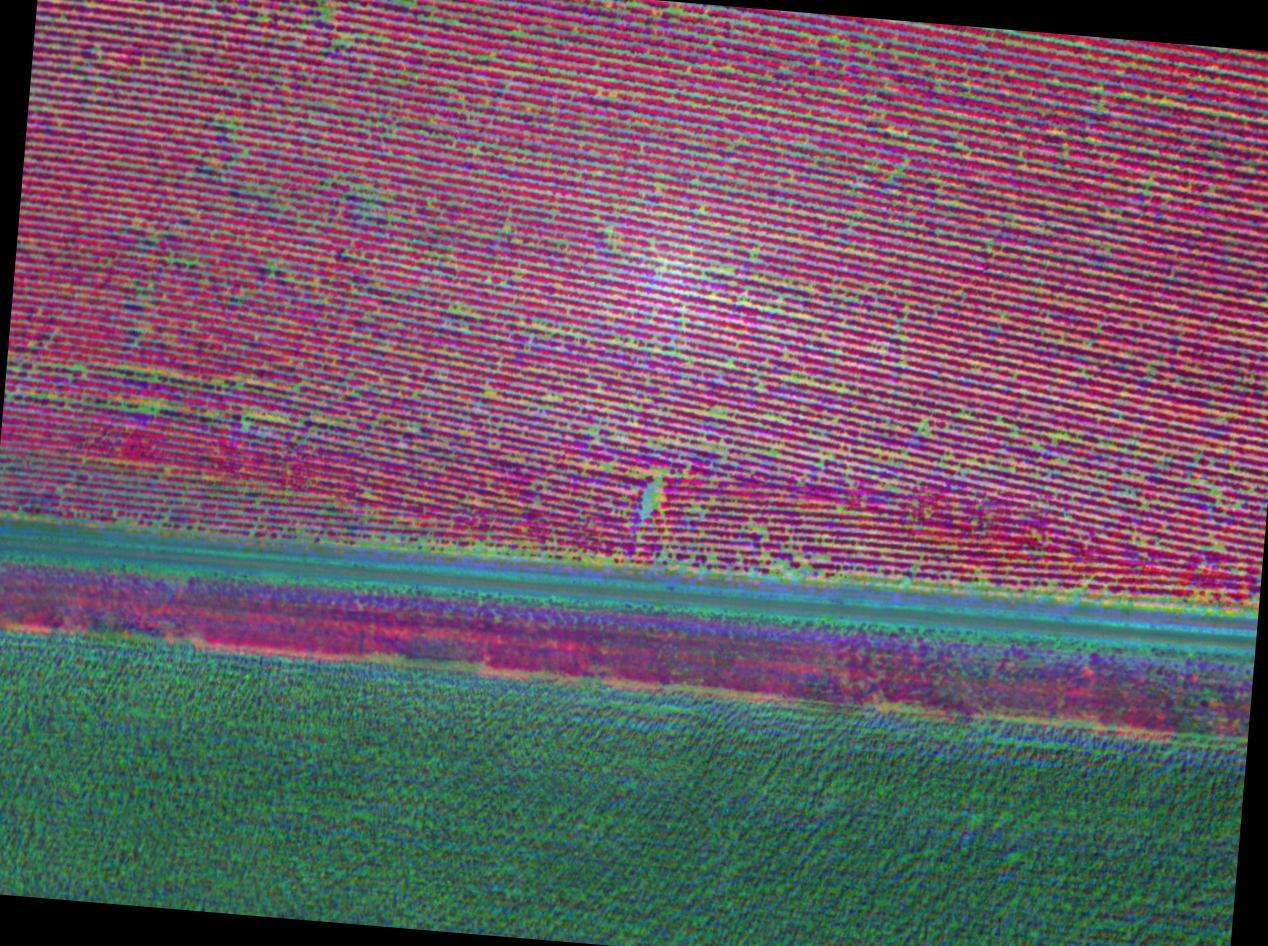dc: (707, 444, 712, 449), (644, 507, 649, 512), (777, 310, 783, 314), (517, 32, 522, 36), (771, 451, 775, 456), (648, 497, 652, 502), (651, 485, 654, 490), (767, 107, 770, 110), (952, 202, 955, 205), (711, 412, 714, 415)
